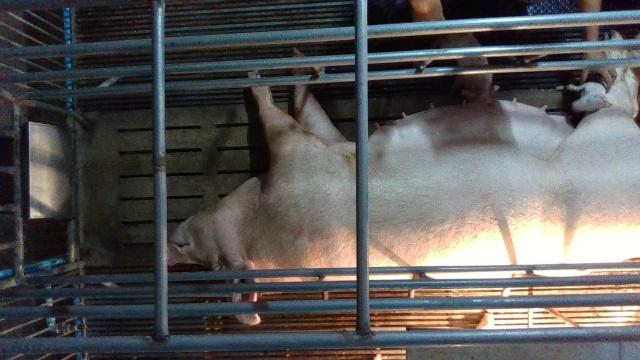piglet: (418, 34, 500, 100), (564, 74, 611, 112)
sow-sleep-lactate: (172, 33, 640, 325)
